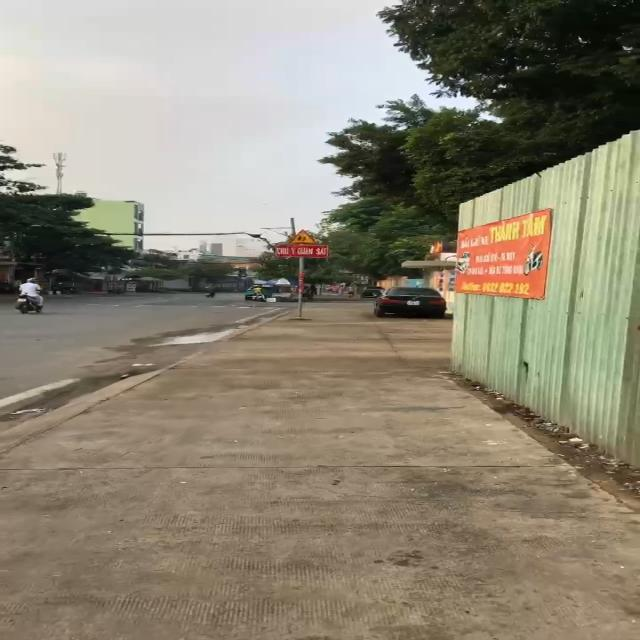Bien bao tre em: (288, 227, 318, 244)
